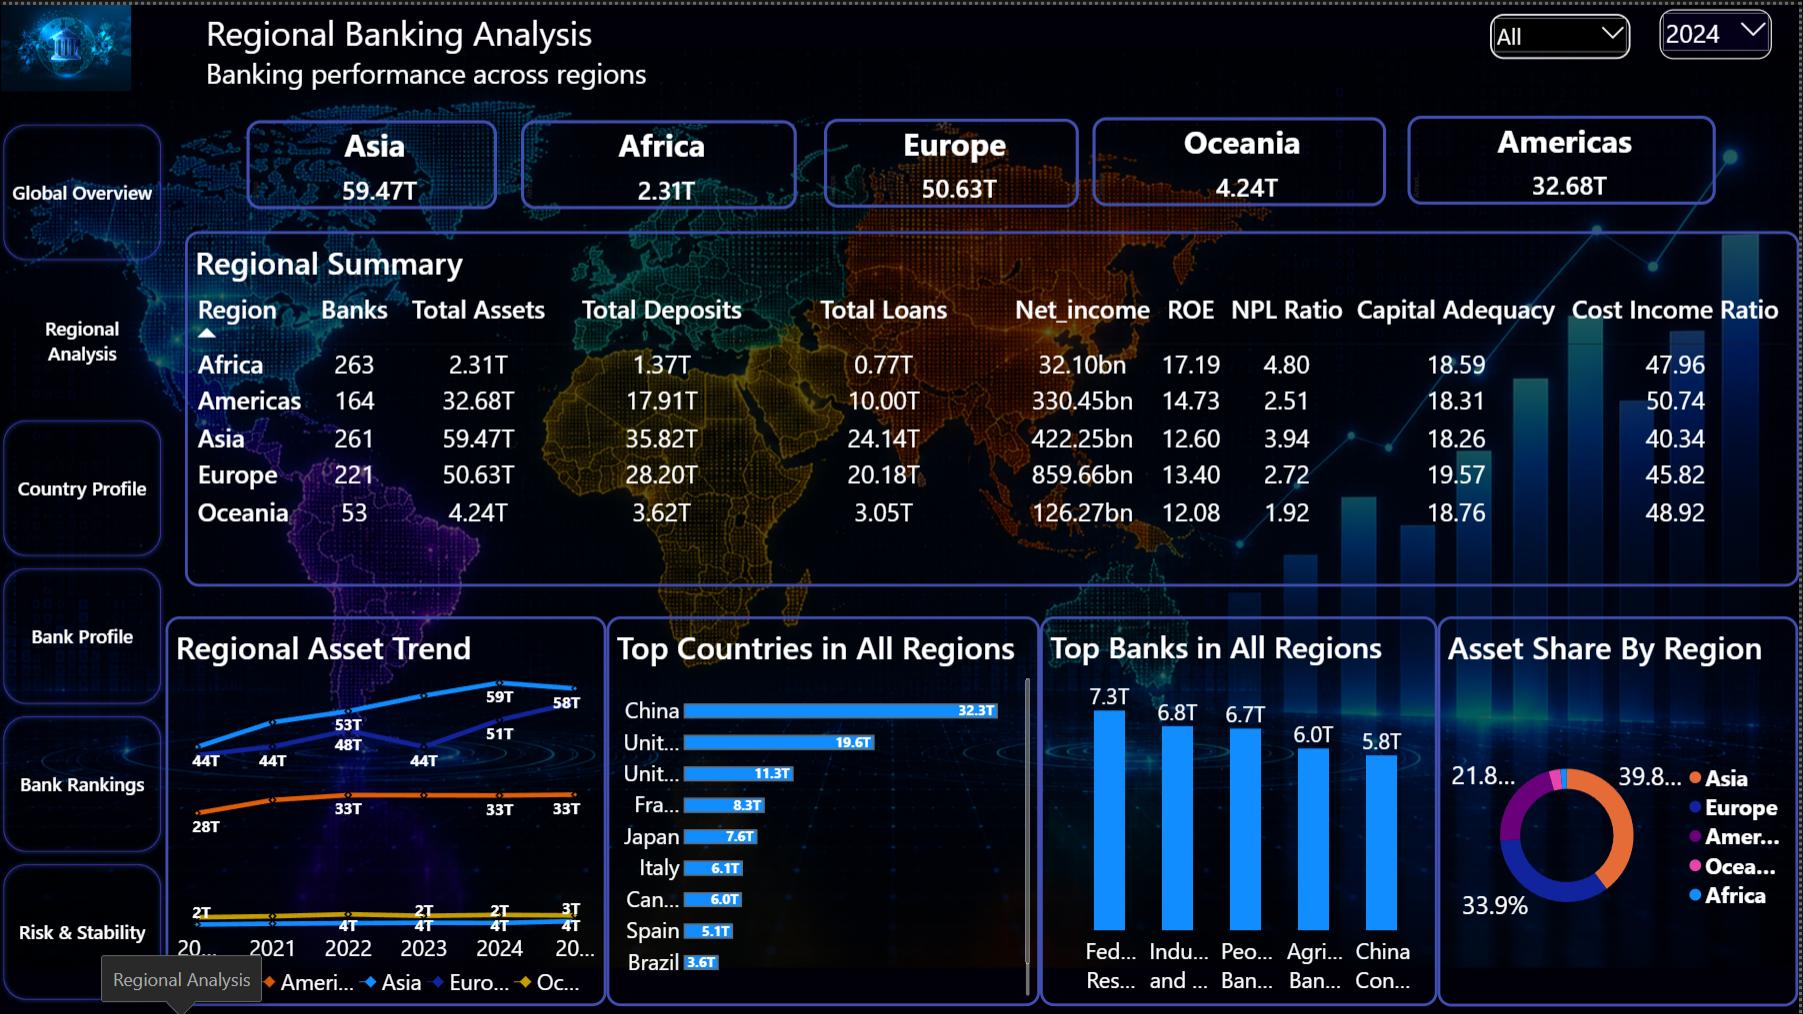

The page's visual inventory and layout, read from the dashboard file:
{"tool":"powerbi","page":{"name":"Regional Analysis","canvas":[3840,2160],"ordinal":1},"visuals":[{"type":"cardVisual","title":"Asia","fields":{"Data":["Sum(public gbip_bank_analysis.total_assets)"],"Rows":["public gbip_bank_analysis.region_name"]},"box":[529.2,246.5,534.7,189.8],"z":0},{"type":"cardVisual","title":"Africa","fields":{"Data":["Sum(public gbip_bank_analysis.total_assets)"],"Rows":["public gbip_bank_analysis.region_name"]},"box":[1112.9,246.5,588.5,189.8],"z":1000},{"type":"cardVisual","title":"Europe","fields":{"Data":["Sum(public gbip_bank_analysis.total_assets)"],"Rows":["public gbip_bank_analysis.region_name"]},"box":[1761.7,242.9,544.2,189.8],"z":2000},{"type":"cardVisual","title":"Oceania","fields":{"Data":["Sum(public gbip_bank_analysis.total_assets)"],"Rows":["public gbip_bank_analysis.region_name"]},"box":[2334.5,239.2,626.5,189.8],"z":3000},{"type":"cardVisual","title":"Americas","fields":{"Data":["Sum(public gbip_bank_analysis.total_assets)"],"Rows":["public gbip_bank_analysis.region_name"]},"box":[3005.1,235.6,658.1,189.8],"z":4000},{"type":"pivotTable","title":"Regional Summary","fields":{"Rows":["public gbip_bank_analysis.region_name"],"Values":["Count(public gbip_bank_analysis.bank_id)","Sum(public gbip_bank_analysis.total_assets)","Sum(public gbip_bank_analysis.total_deposits)","Sum(public gbip_bank_analysis.total_loans)","Sum(public gbip_bank_analysis.net_income)","Avg(public gbip_bank_analysis.roe_percent)","Avg(public gbip_bank_analysis.npl_ratio)","Avg(public gbip_bank_analysis.capital_adequacy_percent)","Avg(public gbip_bank_analysis.cost_income_ratio)"]},"box":[395.5,484.1,3445.7,759.4],"z":5000},{"type":"slicer","fields":{"Values":["public gbip_bank_analysis.fiscal_year"]},"box":[3543.3,10,240,106.7],"z":6000},{"type":"slicer","fields":{"Values":["public regions.region_name"]},"box":[3183.3,20,300,96.7],"z":8000},{"type":"clusteredBarChart","fields":{"Category":["DimCountry.country_name"],"Y":["Bank_count.Bank Total Assets"]},"box":[1296.7,1306.7,926.7,813.3],"z":9000},{"type":"clusteredColumnChart","fields":{"Category":["DimBank.bank_name"],"Y":["Bank_count.Bank Total Assets"]},"box":[2223.3,1306.7,846.7,853.3],"z":10000},{"type":"donutChart","title":"Asset Share By Region","fields":{"Category":["public regions.region_name"],"Y":["Bank_count.Asset Share by Region"]},"box":[3070,1306.7,770,833.3],"z":11000},{"type":"lineChart","title":"Regional Asset Trend","fields":{"Category":["public vw_global_banking_yearly_summary.fiscal_year"],"Series":["public regions.region_name"],"Y":["Bank_count.Bank Total Assets"]},"box":[356.7,1306.7,940,813.3],"z":12000},{"type":"pageNavigator","box":[0,246.5,355.2,1888.6],"z":14001},{"type":"image","box":[0,0,286.4,184.9],"z":14002},{"type":"textbox","box":[442.2,10.9,1015,184.9],"z":14003}]}

Visuals, with their boxes in screenshot pixels (x1, y1, x2, y2), scaled from the page's 3840x2160 canvas onto the 1803x1014 screenshot:
"Asia" cardVisual: 248,116,500,205
"Africa" cardVisual: 523,116,799,205
"Europe" cardVisual: 827,114,1083,203
"Oceania" cardVisual: 1096,112,1390,201
"Americas" cardVisual: 1411,111,1720,200
"Regional Summary" pivotTable: 186,227,1802,584
slicer - public gbip_bank_analysis.fiscal_year: 1664,5,1776,55
slicer - public regions.region_name: 1495,9,1636,55
clusteredBarChart - DimCountry.country_name x Bank_count.Bank Total Assets: 609,613,1044,995
clusteredColumnChart - DimBank.bank_name x Bank_count.Bank Total Assets: 1044,613,1441,1013
"Asset Share By Region" donutChart: 1441,613,1802,1005
"Regional Asset Trend" lineChart: 167,613,609,995
pageNavigator: 0,116,167,1002
image: 0,0,134,87
textbox: 208,5,684,92
